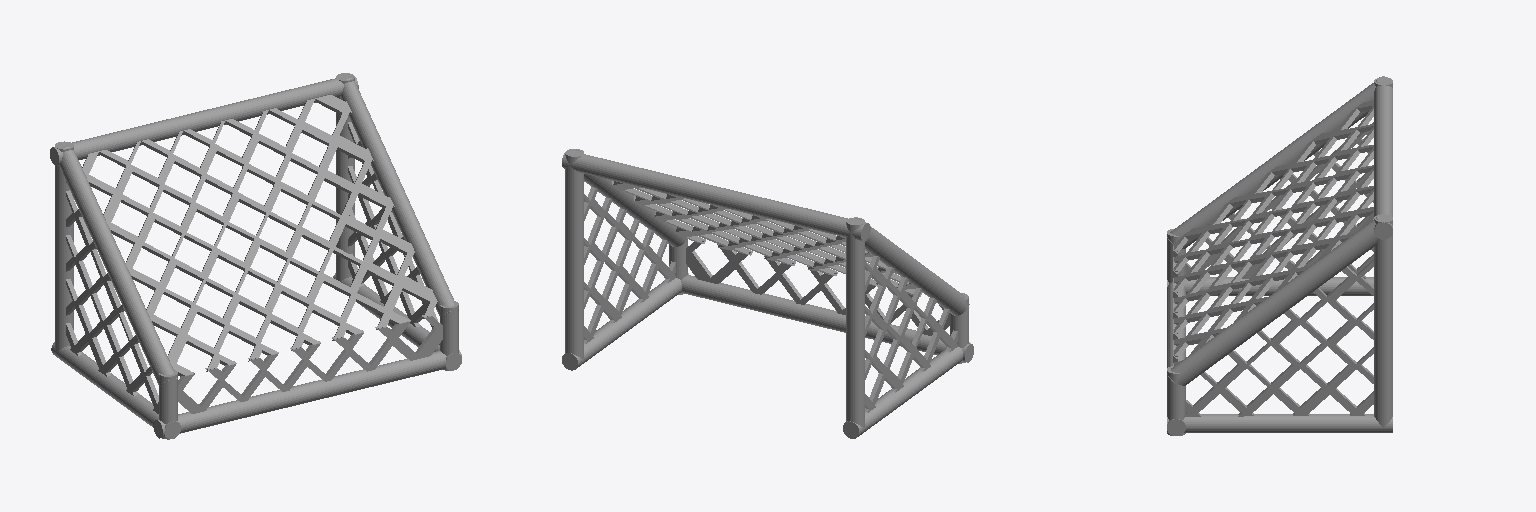
File: goal.obj
3 views of the same model, side by side, from view 1: azimuth 30°, elevation 25°; view 2: azimuth 150°, elevation 25°; view 3: azimuth 270°, elevation 25° (orthographic).
Parts seen in each view (by area): view 1: obj_0; view 2: obj_0; view 3: obj_0.
Part boxes in pixels (x1,y1,x2,y2): obj_0: (50,73,461,439); obj_0: (562,149,973,438); obj_0: (1167,76,1392,435).
Size of the model in its own units: 90 by 61.74 by 59.